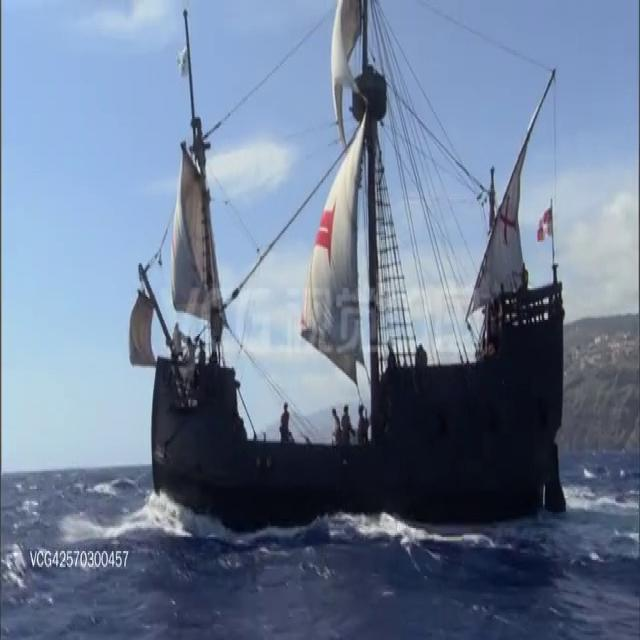sailboat: (129, 0, 572, 536)
